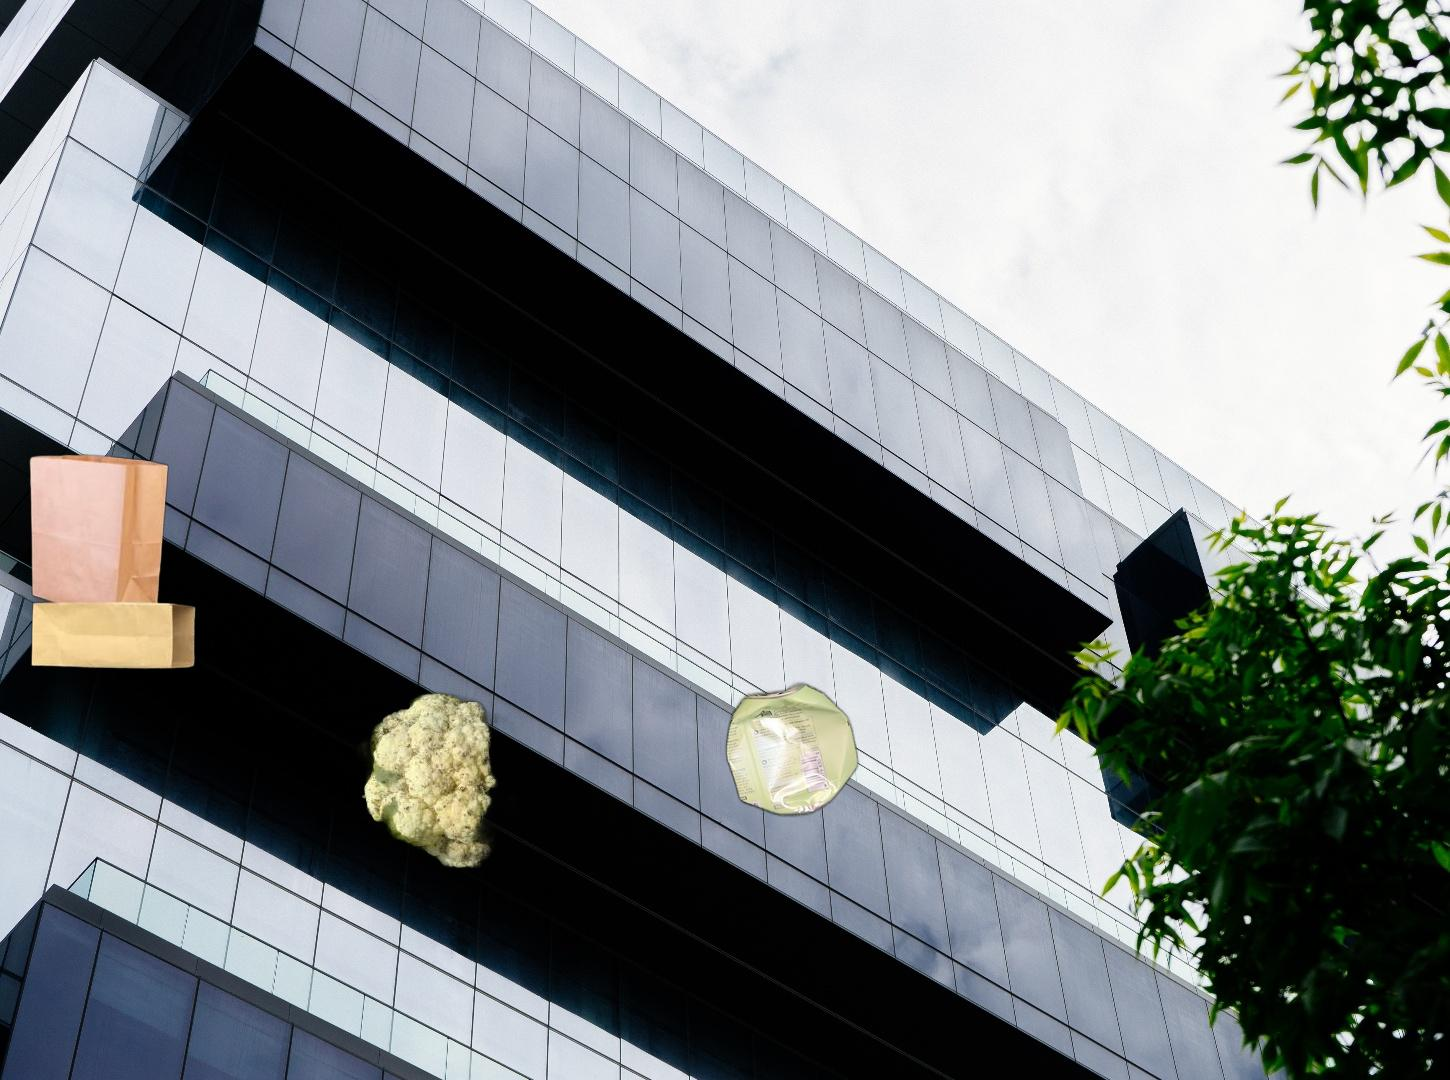biological: (329, 676, 554, 887)
metal-cans: (720, 678, 863, 821)
paper: (1445, 15, 1450, 387)
paper-bag: (16, 452, 197, 680)
plastic-bottles: (1334, 497, 1450, 961)
